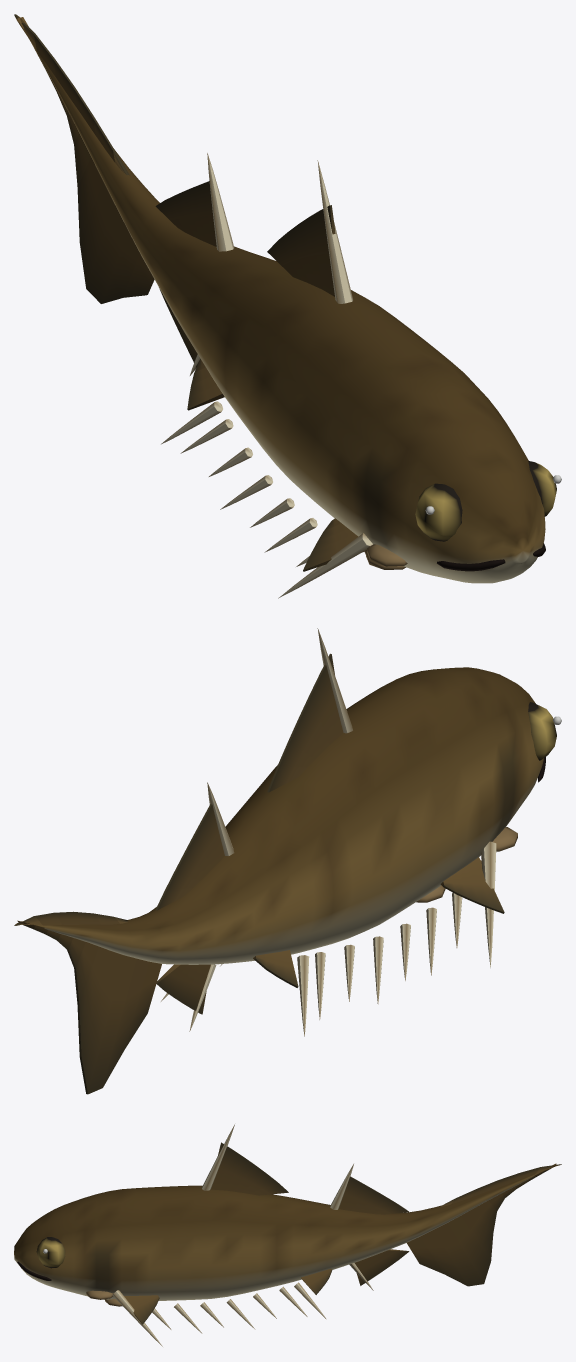
Rendered from FanjingshaniaRenovata.fbx.
3 views of the same model, one above another, from view 1: azimuth 30°, elevation 25°; view 2: azimuth 150°, elevation 25°; view 3: azimuth 270°, elevation 25° (orthographic). The views are drawn at different scales.
Parts seen in each view (by area): view 1: FanjingshaniaRenovata; view 2: FanjingshaniaRenovata; view 3: FanjingshaniaRenovata.
Part boxes in pixels (x1,y1,x2,y2): FanjingshaniaRenovata: (14, 14, 561, 598); FanjingshaniaRenovata: (14, 628, 561, 1094); FanjingshaniaRenovata: (14, 1124, 561, 1346).
Size of the model in its own units: 0.3522 by 0.5764 by 1.45.
